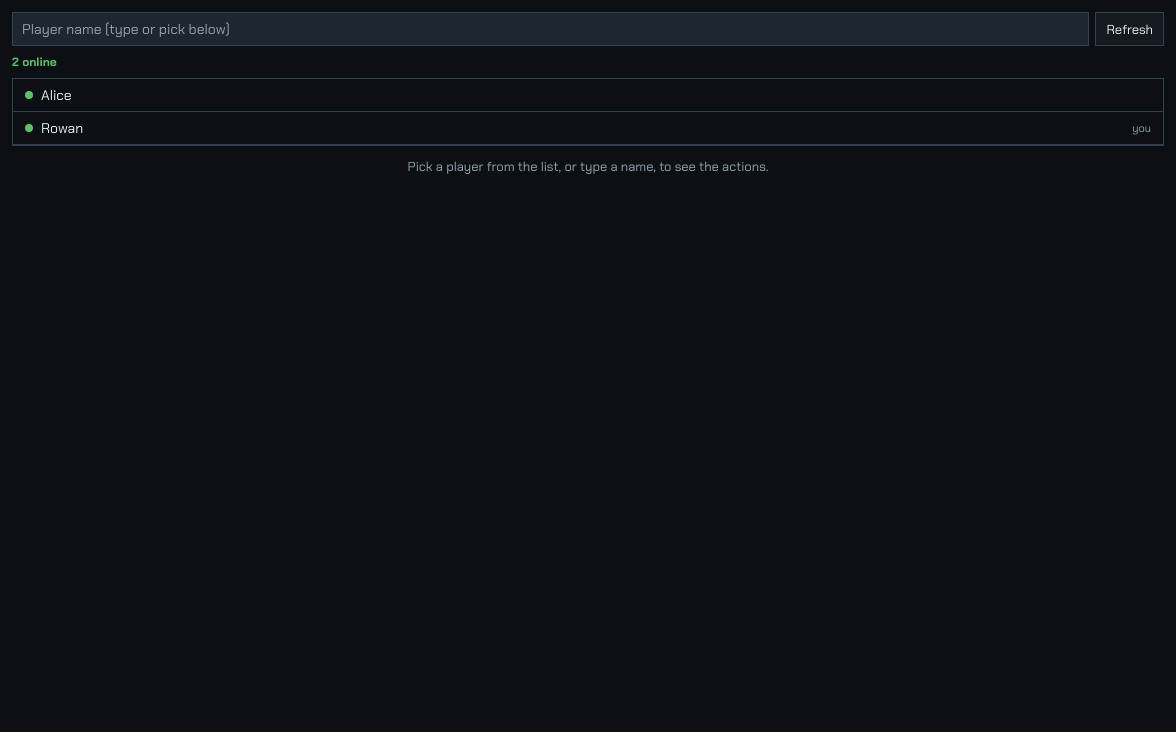
PlayerModeration › shows the actions only once a target is picked
Expected: the text "Set access" is not shown
Click the button "Alice" at (56, 95), box x1=13 y1=79 x2=1163 y2=112
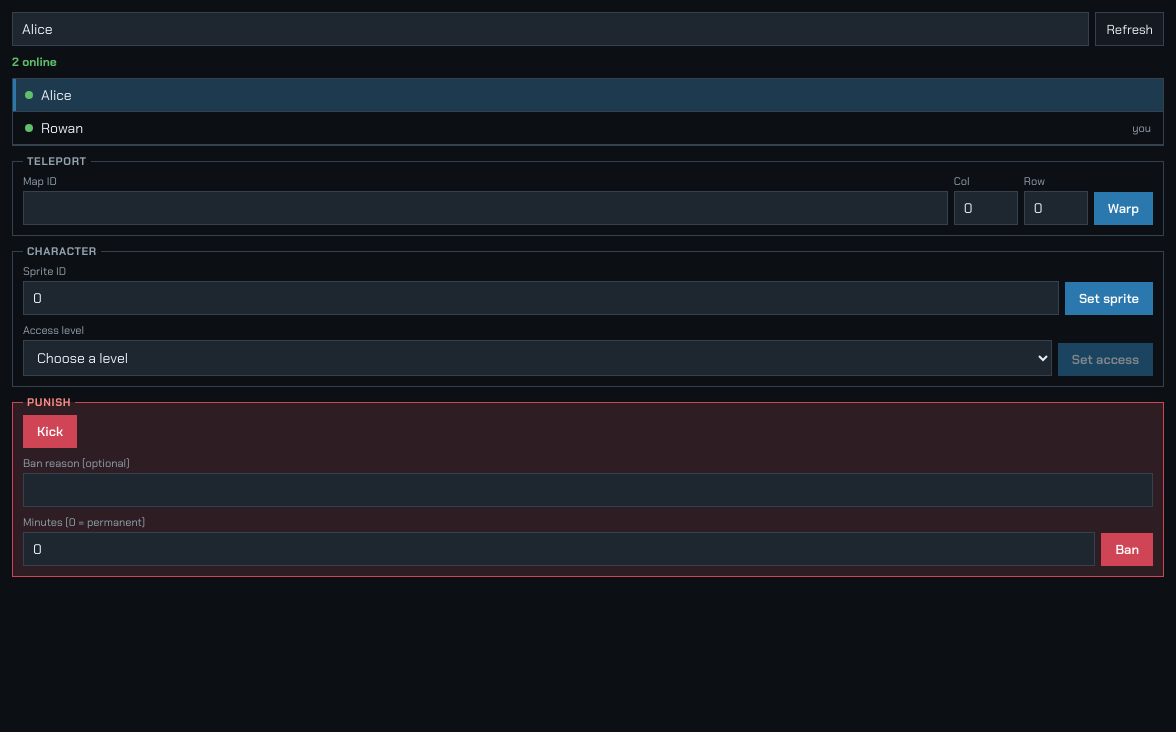
Result: the button "Set access" is shown at x1=1058 y1=343 x2=1153 y2=376
